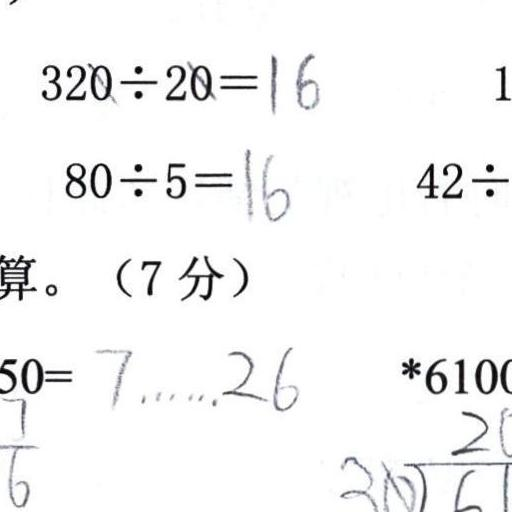ans: (89, 336, 300, 413), (236, 143, 291, 223), (260, 46, 320, 114)
